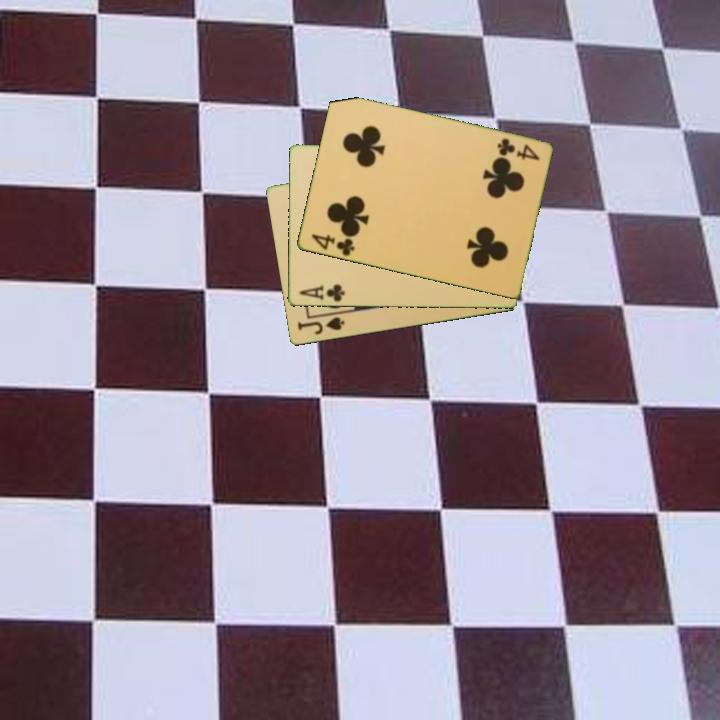4c: (308, 231, 357, 259), (493, 135, 542, 163)
Ac: (296, 281, 347, 305)
Js: (294, 314, 347, 338)
